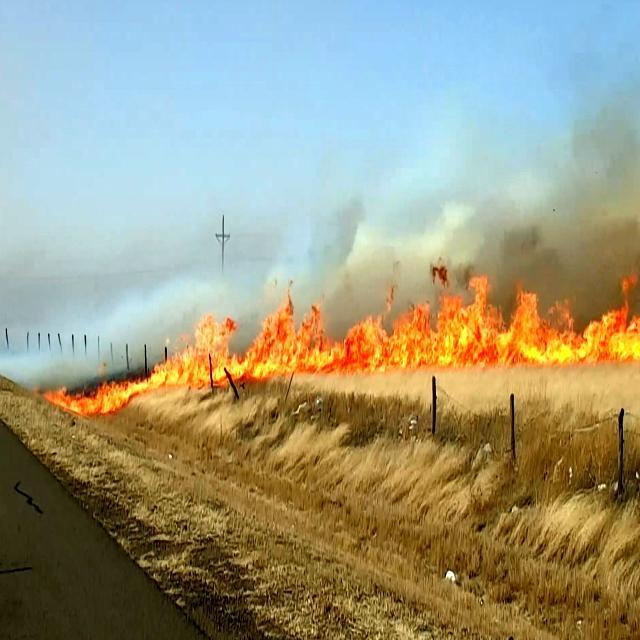Fire: (154, 280, 638, 399), (58, 360, 177, 418)
Smoke: (12, 4, 640, 309)
